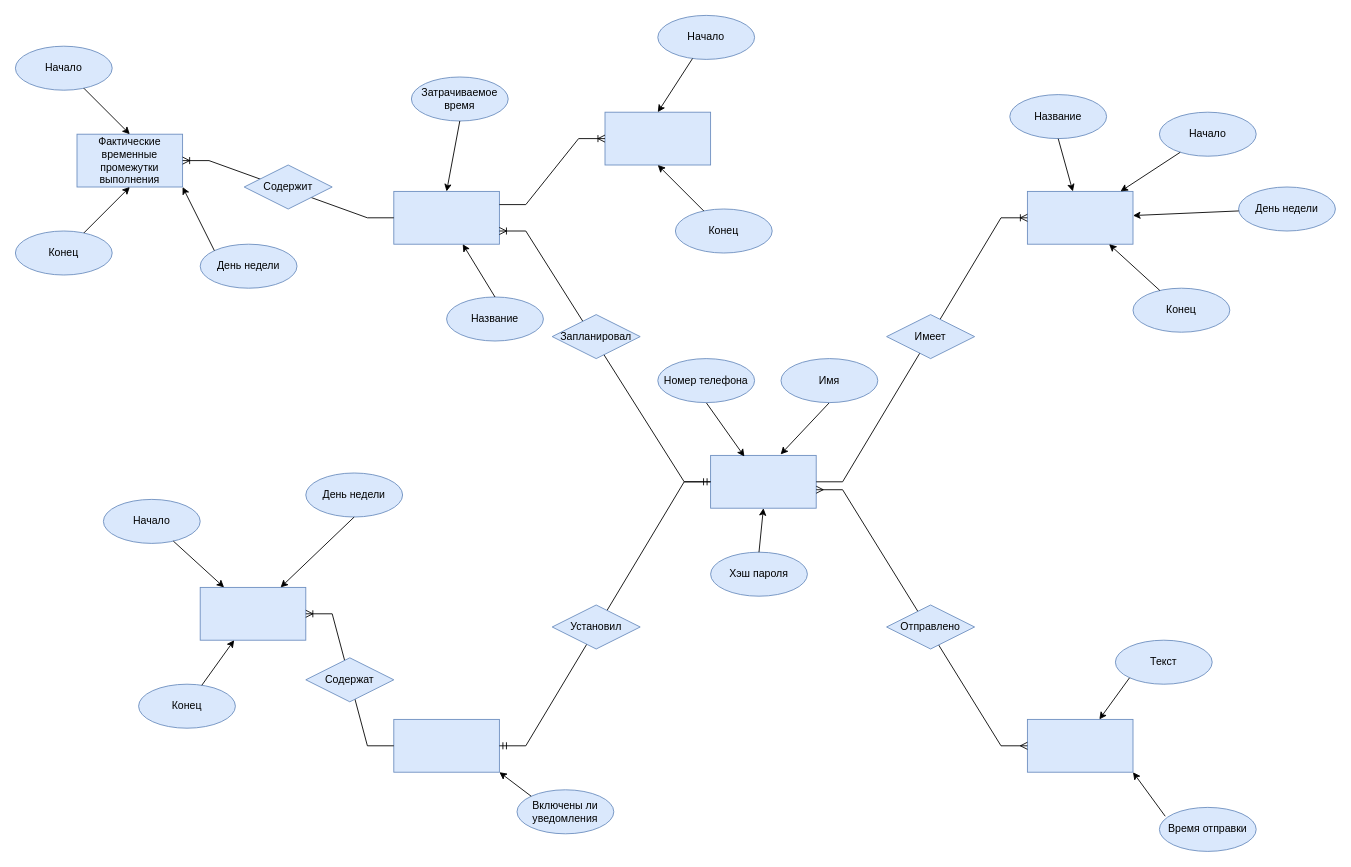
Image size: 1351x867. Some labels were removed from this diagram. Here are the shapes that lost their labels. From the top down, the centre of each, then its label:
At (657,138): "Предпочтительное или жесткое допустимое время выполнения".
At (446,217): "Привычка".
At (1080,217): "Событие в расписании".
At (763,481): "Пользователь".
At (252,613): "Запрещенное время посылки уведомлений".
At (446,745): "Настройки".
At (1080,745): "Сообщение".
